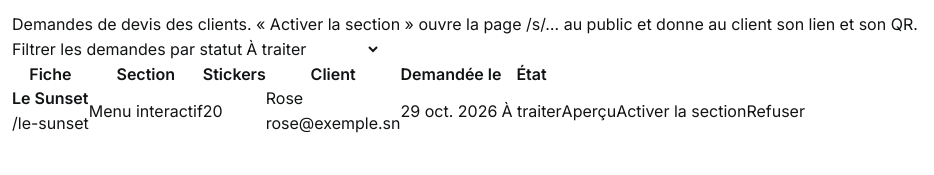
Test: stickers par section (administration) › onglet « Stickers par section » (Production) › « Activer la section » envoie la décision, prévient l'administrateur et recharge
The image size is (934, 175).
Click the button "Activer la section": (681, 111) top-left (616, 99), bottom-right (746, 124)
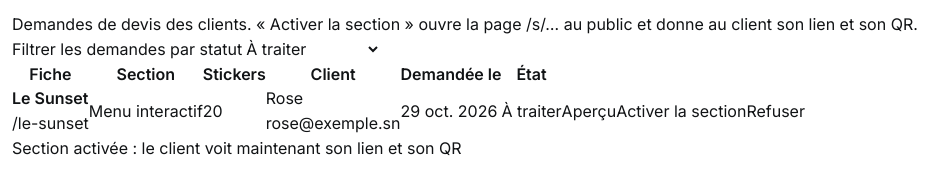
Check: the text "le client voit maintenant son lien et son QR" is shown, box top-left (12, 138), bottom-right (462, 158)
